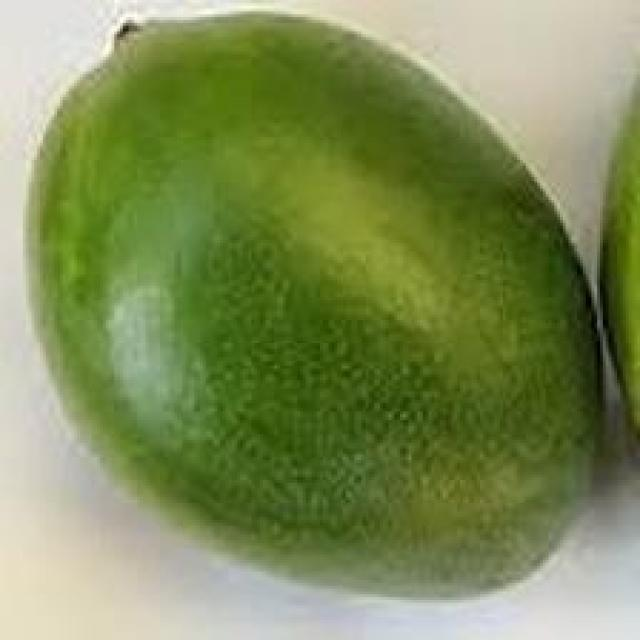Good_Mango: (23, 9, 603, 603)
